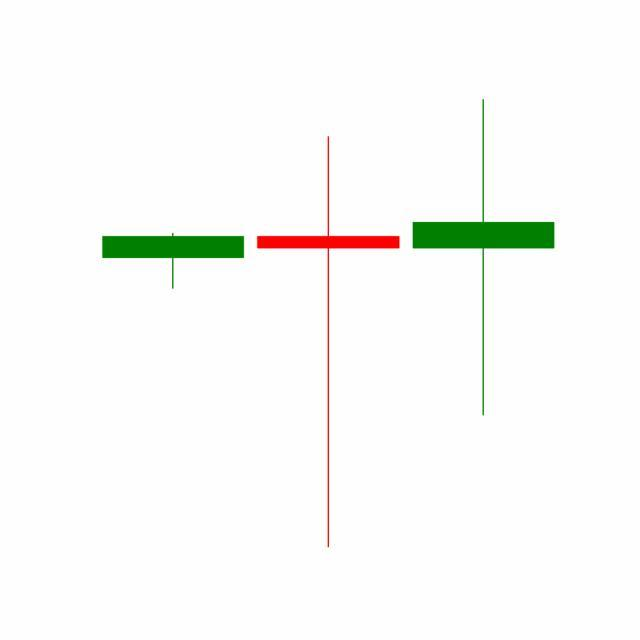Spinning Top: (250, 133, 407, 553)
